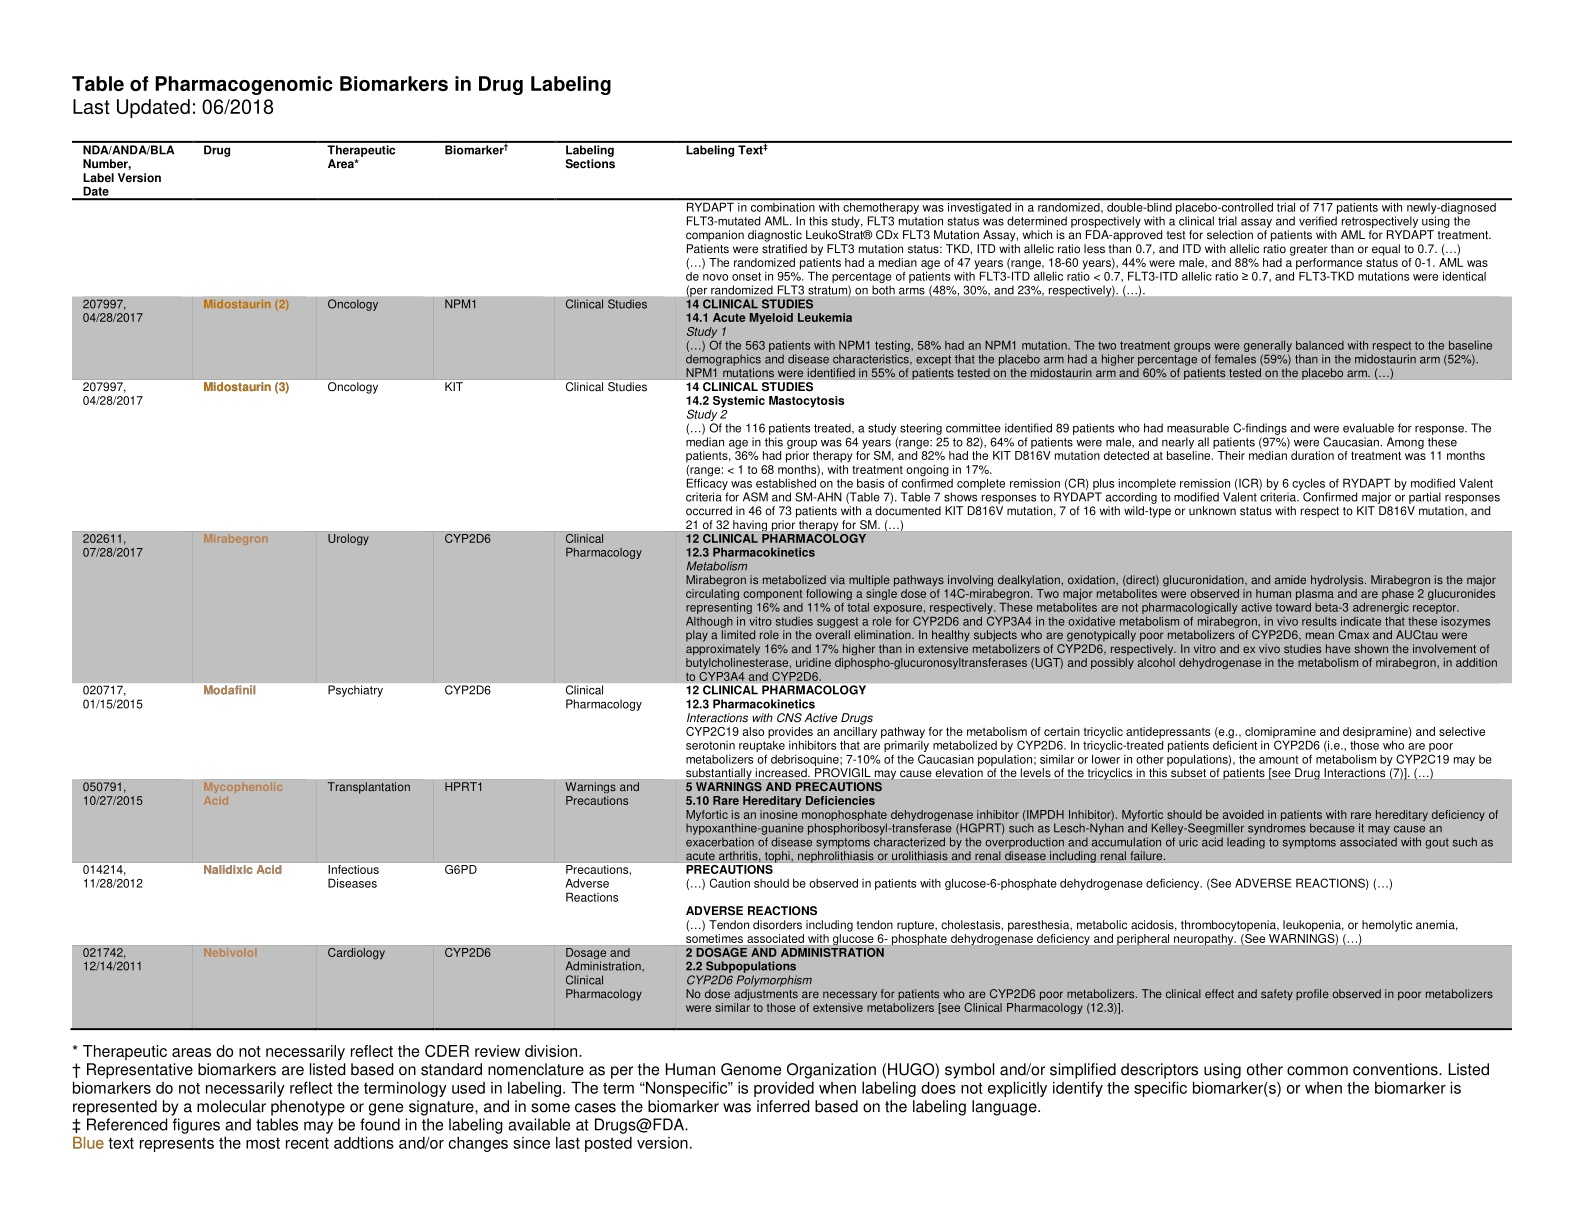partial_lined: (71, 140, 1515, 1032)
